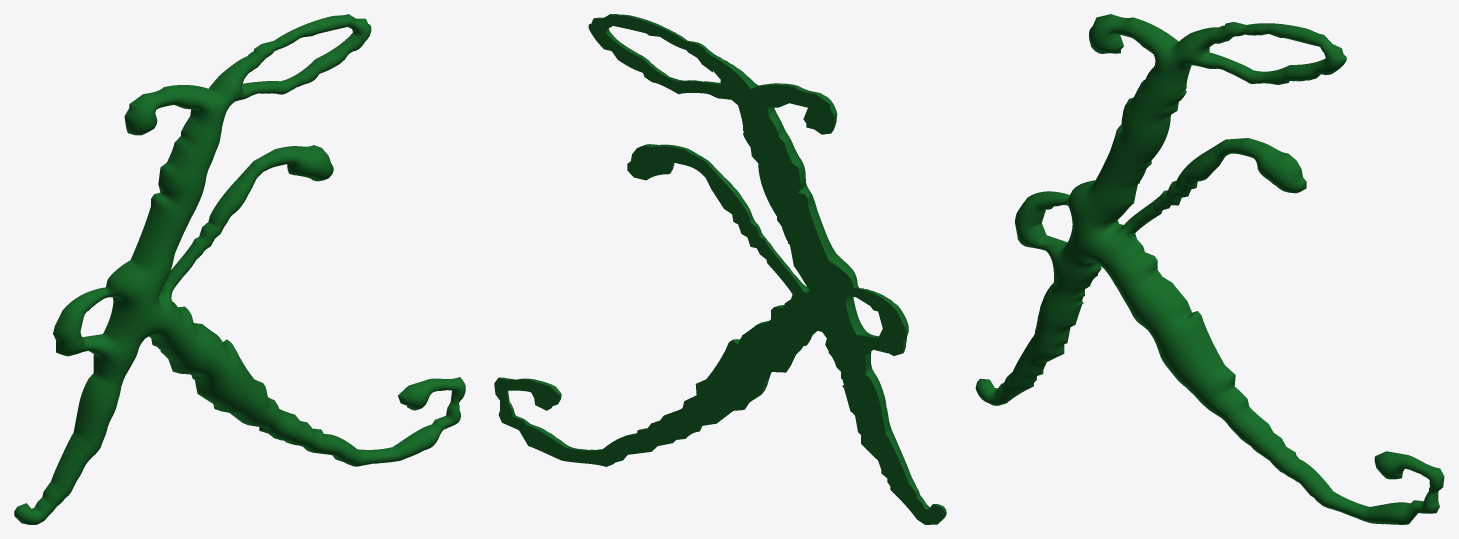
The model's file is kkkk.glb.
The picture shows the model from 3 angles, left to right: view 1: azimuth 30°, elevation 25°; view 2: azimuth 150°, elevation 25°; view 3: azimuth 330°, elevation 25°; orthographic projection. The views are drawn at different scales.
Visible parts, largest first — view 1: 자산 10@300; view 2: 자산 10@300; view 3: 자산 10@300.
Boxes of the visible parts, x1=… form: 자산 10@300: x1=14, y1=14, x2=465, y2=524; 자산 10@300: x1=494, y1=14, x2=946, y2=524; 자산 10@300: x1=975, y1=14, x2=1444, y2=524.
Size of the model in its own units: 101 by 98.15 by 6.81.
